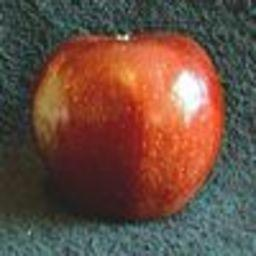apple: (27, 29, 224, 224)
